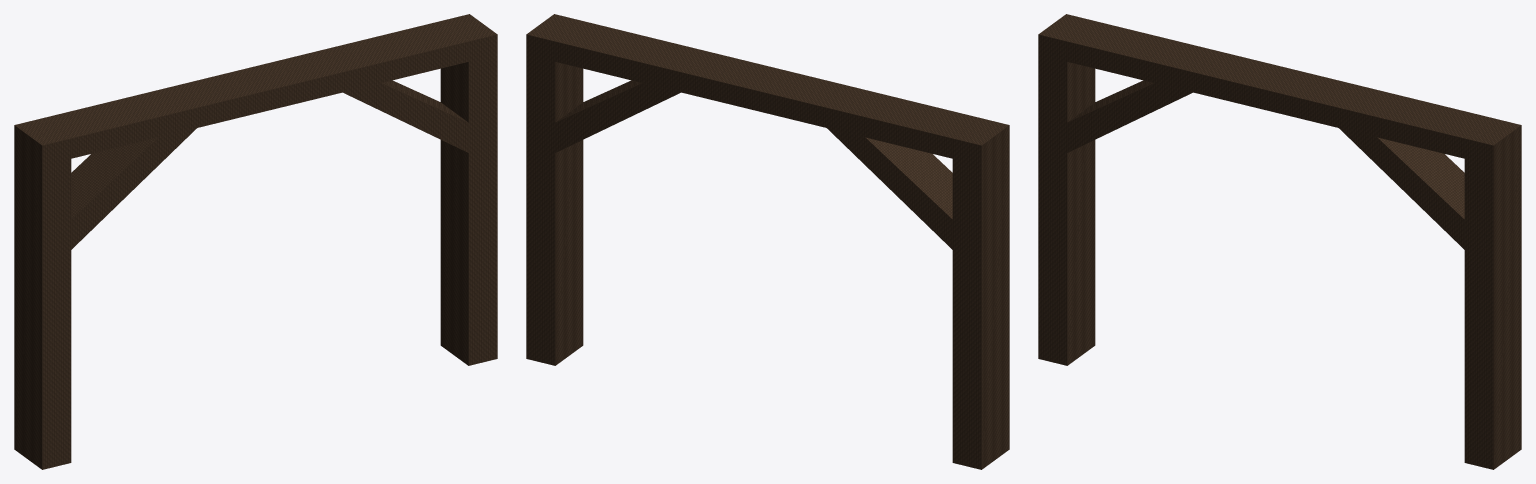
The model's file is glass-cave-post.obj.
The picture shows the model from 3 angles, left to right: view 1: azimuth 30°, elevation 25°; view 2: azimuth 150°, elevation 25°; view 3: azimuth 330°, elevation 25°; orthographic projection.
Visible parts, largest first — view 1: entity0_brush1, entity0_brush0, entity0_brush4, entity0_brush2, entity0_brush3; view 2: entity0_brush1, entity0_brush0, entity0_brush4, entity0_brush2, entity0_brush3; view 3: entity0_brush4, entity0_brush0, entity0_brush1, entity0_brush3, entity0_brush2.
Boxes of the visible parts, <box> form: entity0_brush1: <box>14,118,71,469</box>; entity0_brush0: <box>44,21,468,158</box>; entity0_brush4: <box>440,14,497,365</box>; entity0_brush2: <box>71,128,196,249</box>; entity0_brush3: <box>343,80,468,152</box>; entity0_brush1: <box>952,118,1009,469</box>; entity0_brush0: <box>555,21,979,158</box>; entity0_brush4: <box>526,14,583,365</box>; entity0_brush2: <box>827,128,952,249</box>; entity0_brush3: <box>555,80,680,152</box>; entity0_brush4: <box>1464,118,1521,469</box>; entity0_brush0: <box>1067,21,1491,158</box>; entity0_brush1: <box>1038,14,1095,365</box>; entity0_brush3: <box>1339,128,1464,249</box>; entity0_brush2: <box>1067,80,1192,152</box>.
Size of the model in its own units: 188 by 128 by 20.
Materials: 1 (1 with a texture image).
